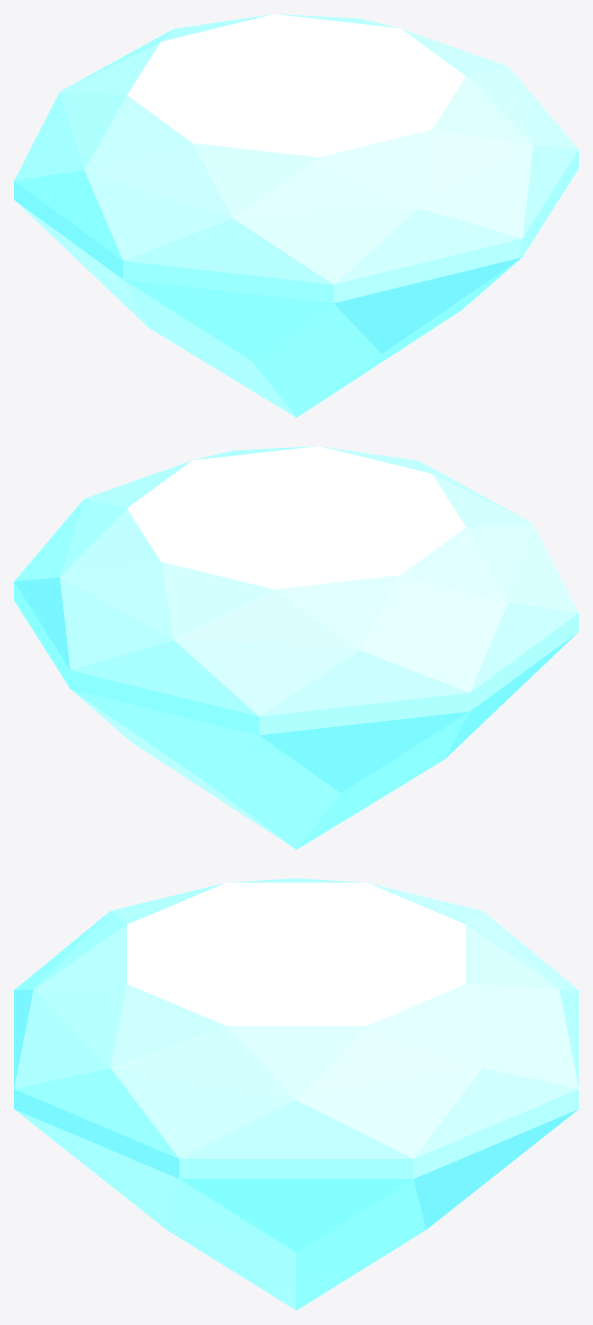
3 renders of one model, top to bottom at view 1: azimuth 30°, elevation 25°; view 2: azimuth 150°, elevation 25°; view 3: azimuth 270°, elevation 25°, orthographic. The views are drawn at different scales.
Visible parts, largest first — view 1: Diamond-whole; view 2: Diamond-whole; view 3: Diamond-whole.
Part boxes in pixels (x1,y1,x2,y2): Diamond-whole: (14, 14, 578, 417); Diamond-whole: (14, 446, 578, 849); Diamond-whole: (14, 878, 578, 1310).
Size of the model in its own units: 0.6944 by 0.4833 by 0.6944.
